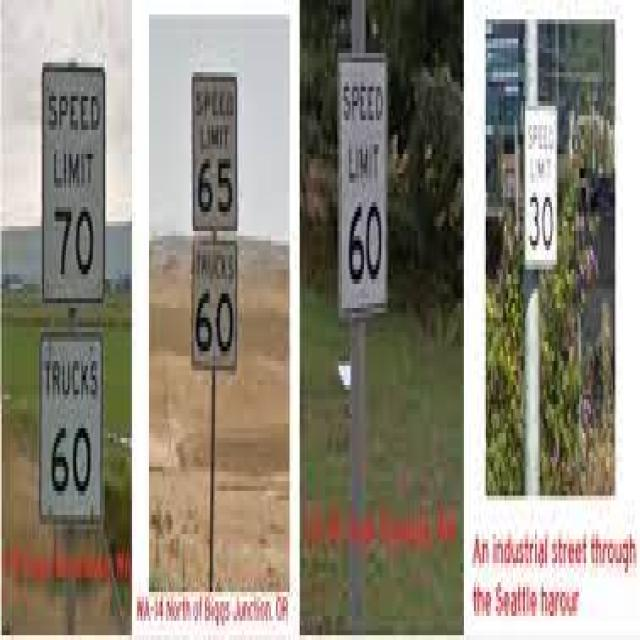speedLimit30: (526, 99, 563, 267)
speedLimit60: (333, 50, 398, 325)
speedLimit65: (187, 58, 240, 372)
speedLimit70: (26, 60, 113, 533)
